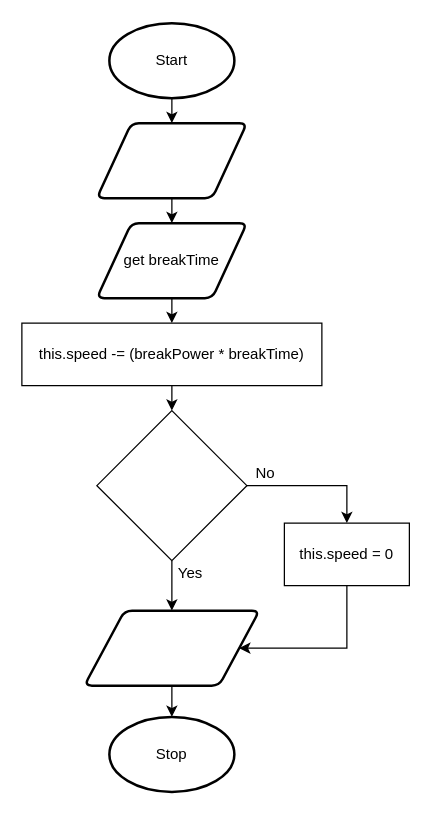
The diagram is 431 pixels wide and 814 high, and some of its shapes have lost their labels. The shapes that lost their labels are listed below. From the top down, each one's centre as x and y in pixels, then its label:
At pixel 171 160: "get breakPower".
At pixel 171 485: "if this.speed >= 0".
At pixel 171 647: "return this.speed".
